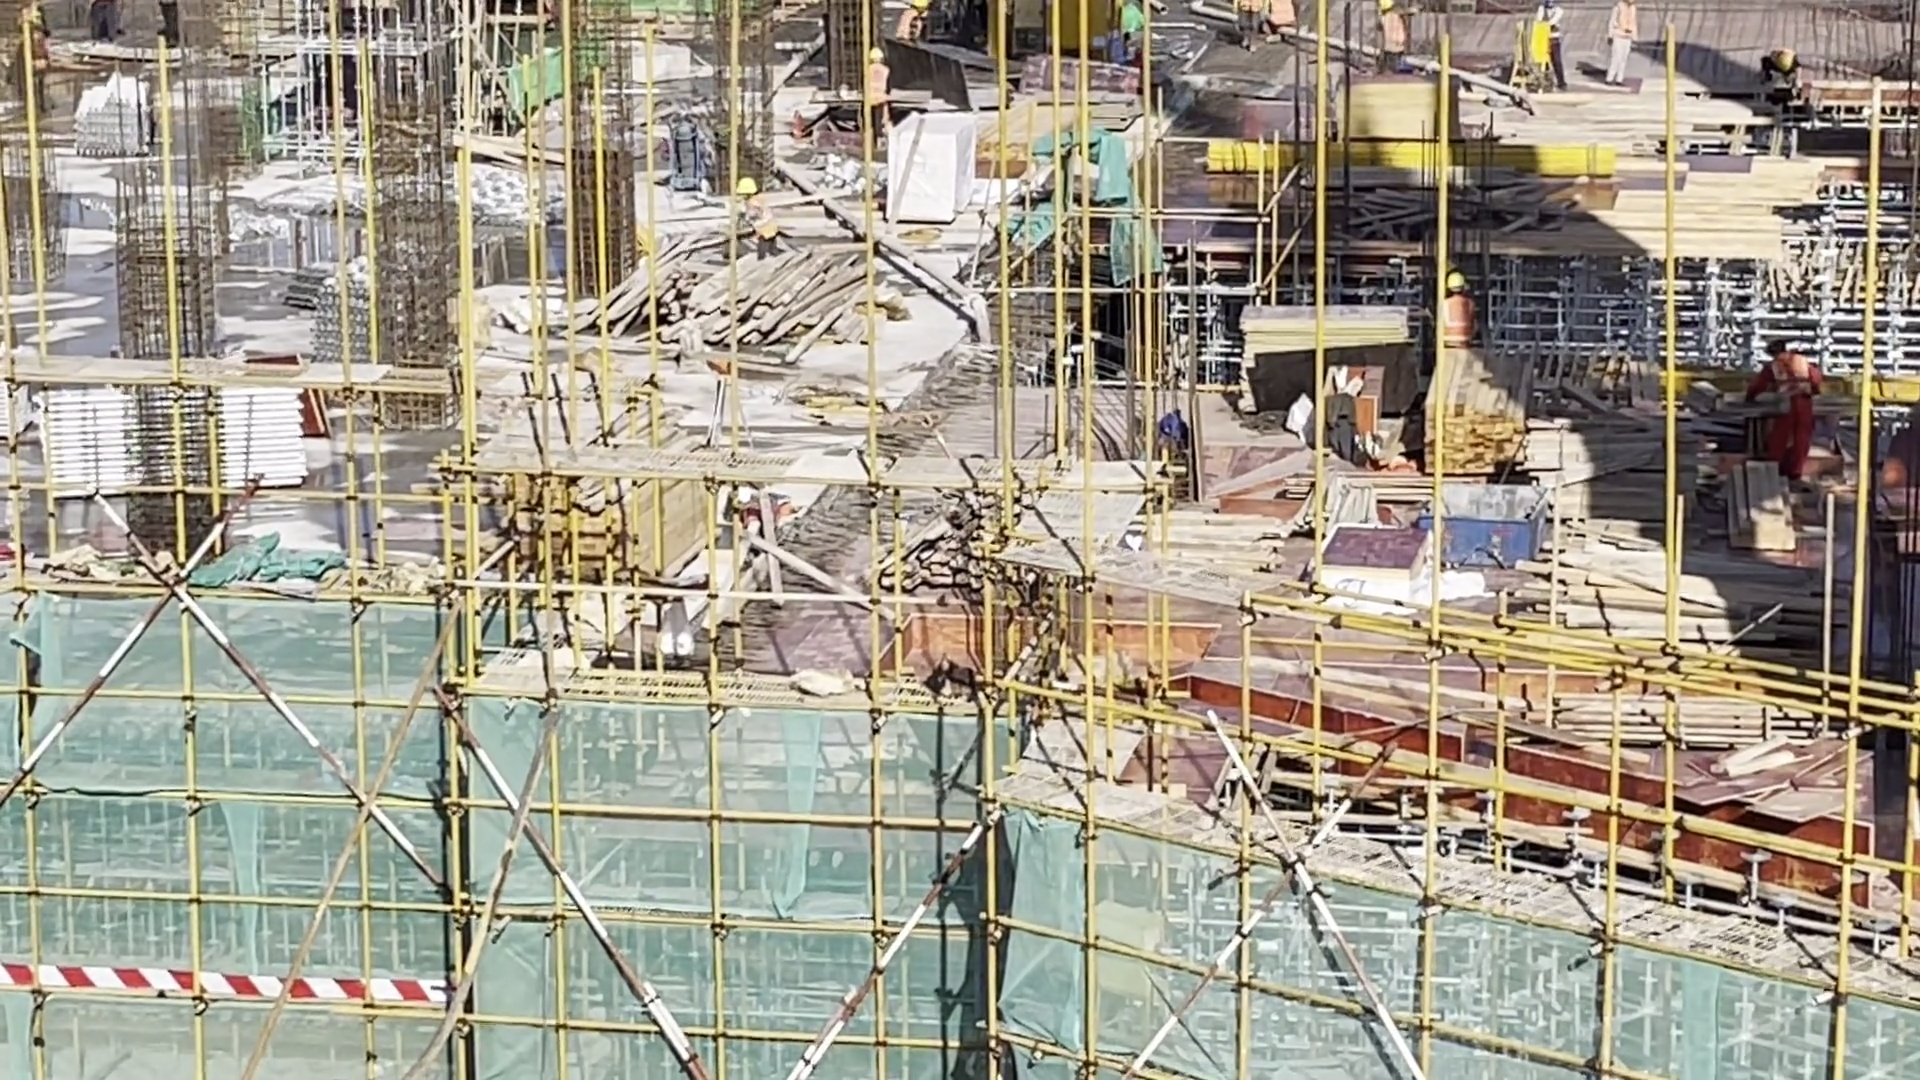board: (1681, 718, 1867, 841)
helmet: (734, 487, 766, 520), (736, 178, 767, 206), (1445, 271, 1471, 294), (1772, 42, 1794, 70), (869, 48, 887, 64)
hopper: (1430, 482, 1566, 585)
person: (1745, 343, 1830, 480), (10, 1, 61, 99), (720, 481, 795, 537), (728, 179, 780, 256), (1524, 1, 1569, 90), (862, 40, 898, 146), (1437, 270, 1480, 357), (1604, 1, 1638, 92), (1759, 47, 1805, 90), (1379, 1, 1403, 73), (891, 4, 930, 43)
scaffold: (38, 383, 314, 498)
vest: (1769, 362, 1827, 437), (1441, 292, 1476, 342), (867, 63, 889, 103)
wood: (614, 242, 833, 365), (1413, 345, 1522, 477), (1547, 675, 1767, 737)
